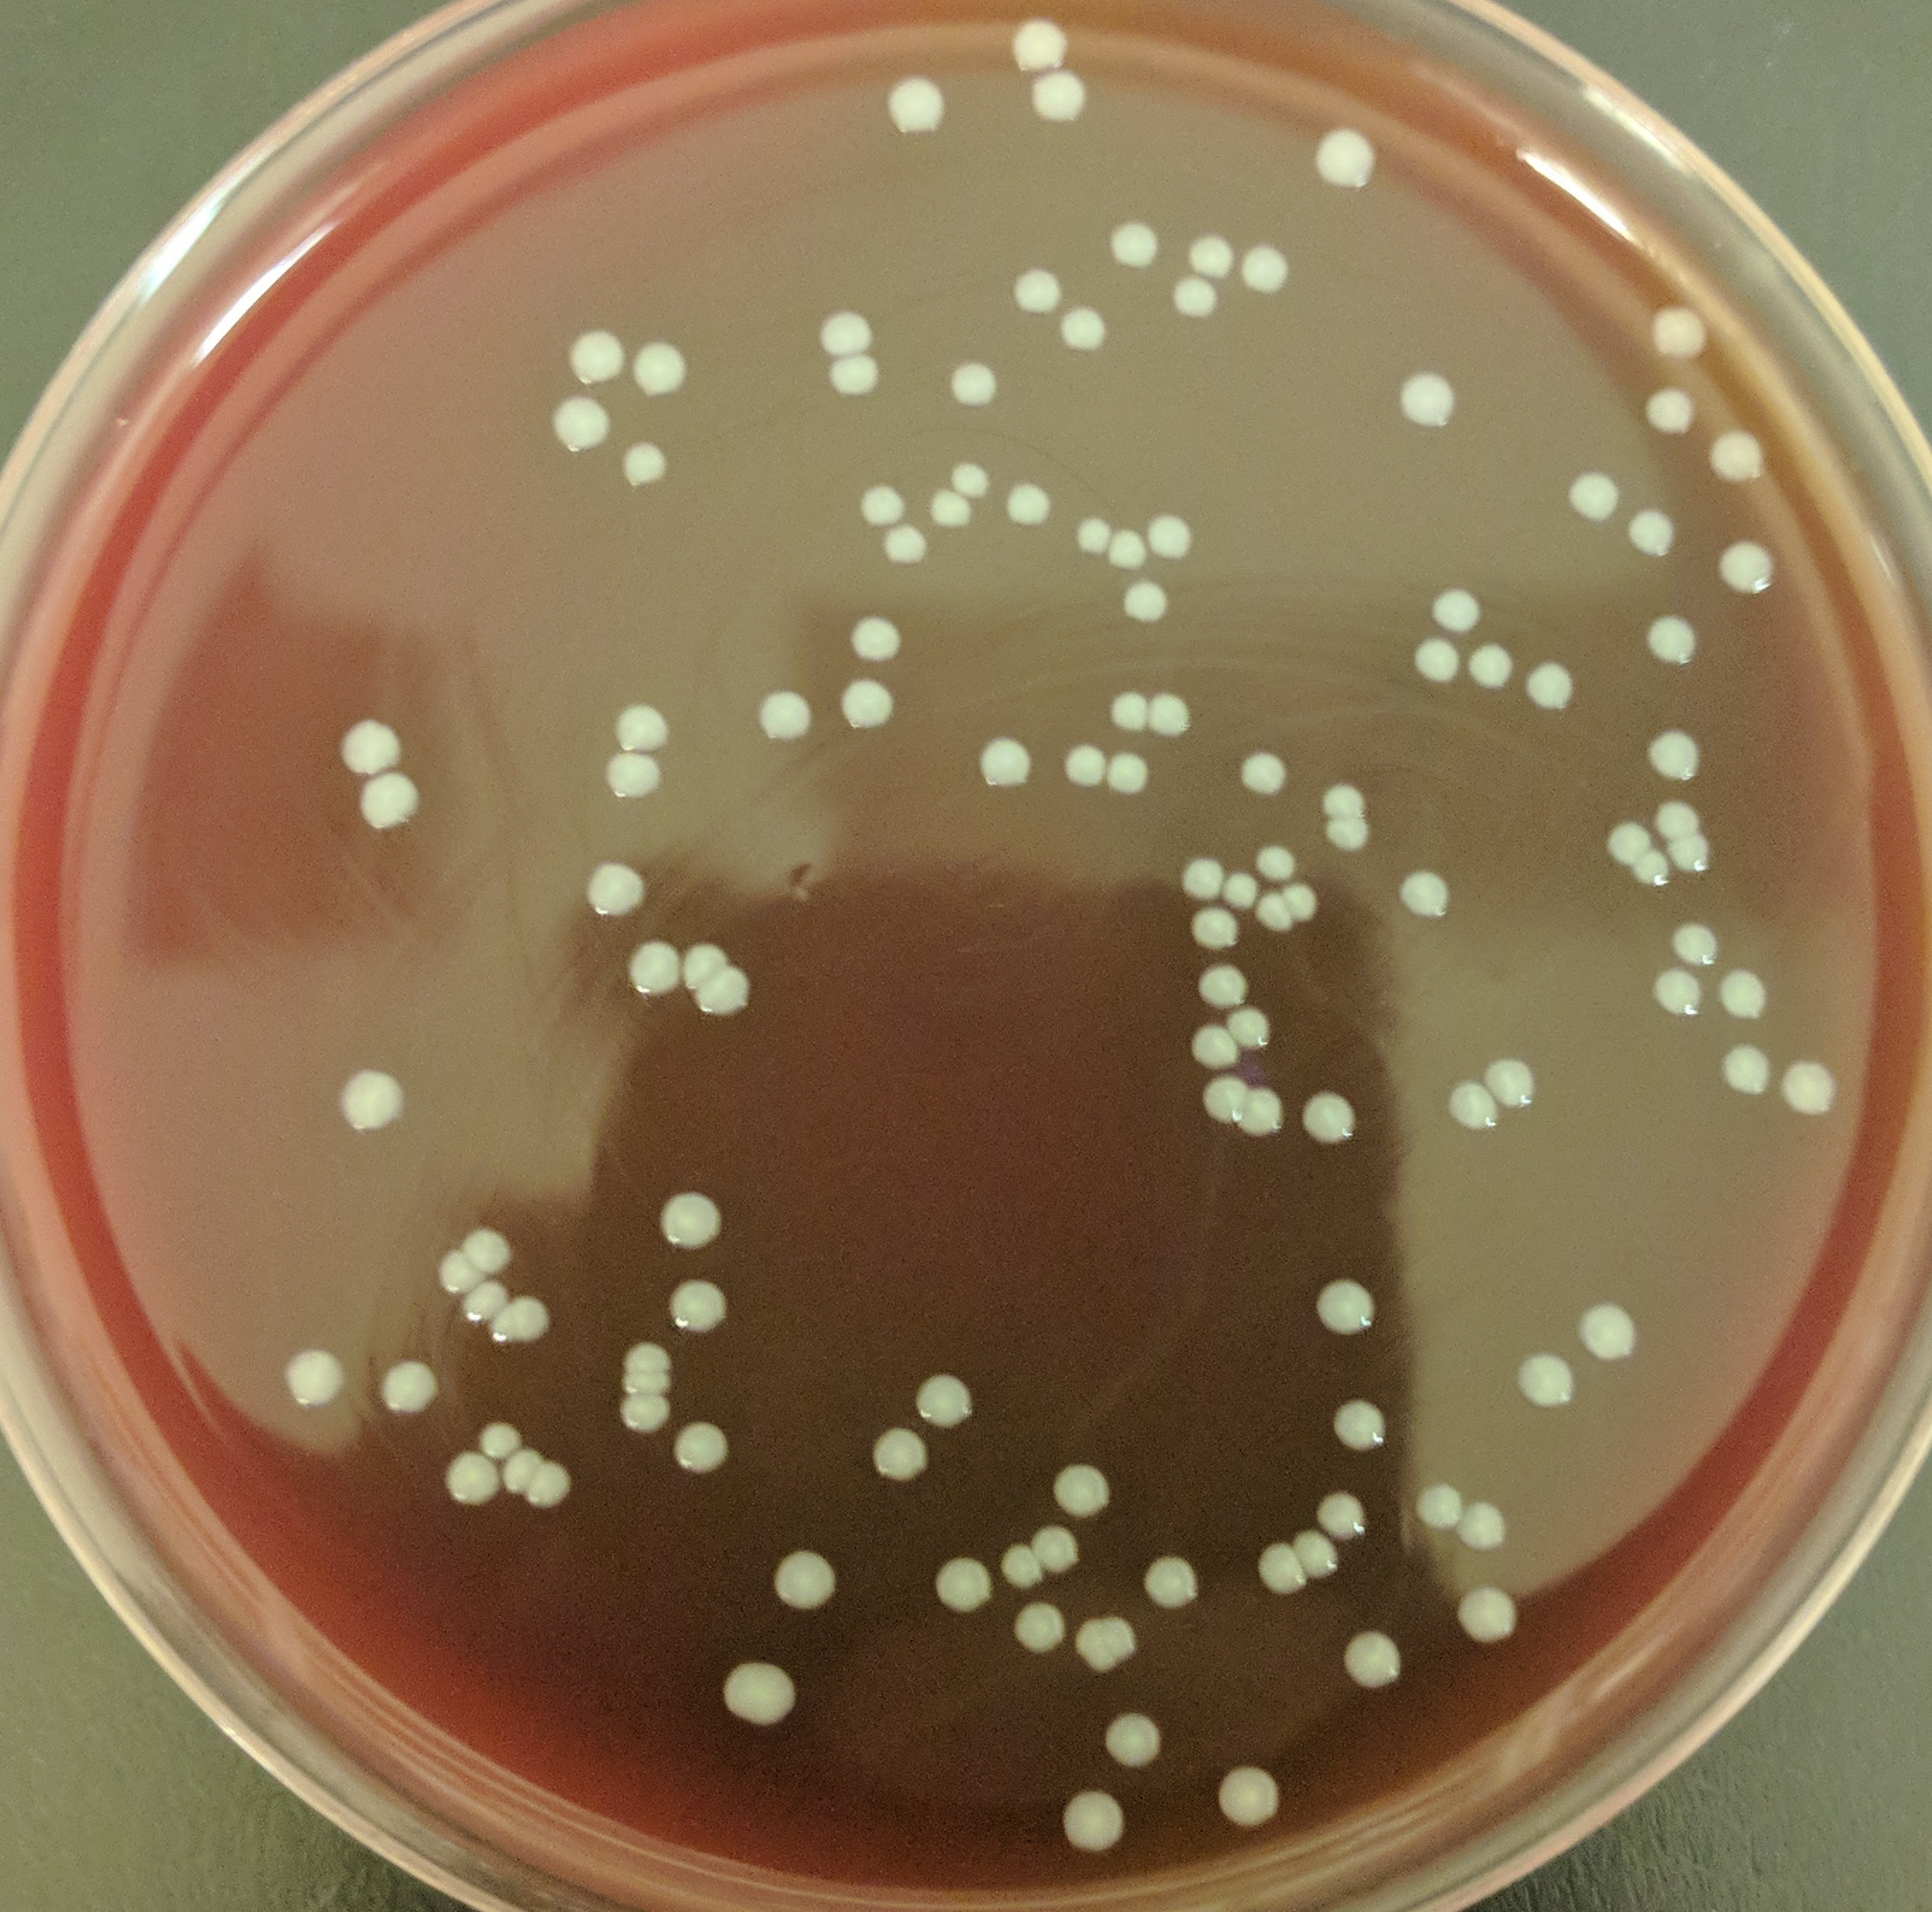sp14: (1704, 506, 1818, 622), (627, 1257, 755, 1346), (1561, 1275, 1657, 1392), (715, 1641, 820, 1747), (1019, 56, 1121, 166), (1438, 1567, 1552, 1665), (1305, 1250, 1401, 1366), (1291, 88, 1394, 193), (1671, 404, 1783, 499), (1032, 1443, 1147, 1534), (627, 303, 729, 406), (1632, 266, 1717, 383), (522, 382, 634, 469), (1205, 1742, 1291, 1856), (324, 688, 429, 781), (1336, 1618, 1431, 1719), (1128, 1537, 1224, 1634), (583, 737, 676, 837), (872, 65, 970, 158), (1040, 1767, 1133, 1865), (1631, 706, 1720, 807), (1631, 583, 1715, 690), (806, 340, 913, 422), (1610, 361, 1713, 445), (1386, 348, 1468, 453), (1240, 219, 1326, 319), (568, 830, 650, 933), (1417, 571, 1513, 658), (827, 671, 914, 763), (1515, 644, 1592, 749), (1054, 1600, 1154, 1681), (370, 1329, 448, 1430), (1760, 1044, 1850, 1133), (760, 1536, 851, 1623), (345, 762, 438, 847), (1701, 1024, 1776, 1126), (1298, 1086, 1393, 1166), (853, 1402, 930, 1501), (1210, 728, 1300, 812), (941, 343, 1032, 425), (795, 278, 886, 359), (1319, 1387, 1410, 1467), (841, 583, 918, 678), (963, 714, 1039, 811), (1608, 492, 1692, 578), (1186, 917, 1258, 1016), (638, 1171, 737, 1241), (280, 1324, 345, 1430), (557, 303, 636, 390), (916, 1544, 1004, 1623), (991, 242, 1072, 326), (1639, 951, 1715, 1040), (748, 664, 816, 762), (1093, 1697, 1167, 1786), (1107, 555, 1188, 636), (1697, 951, 1781, 1028), (1387, 620, 1473, 695), (1555, 445, 1625, 536), (1018, 1504, 1109, 1574), (1047, 292, 1128, 371), (601, 678, 683, 753), (1153, 264, 1237, 336), (671, 1408, 746, 1487), (611, 928, 680, 1012), (1240, 1523, 1301, 1616), (599, 441, 711, 490), (1096, 208, 1172, 280), (1142, 483, 1210, 562), (1510, 1334, 1571, 1422), (1273, 1508, 1338, 1590), (1471, 623, 1533, 709), (998, 459, 1051, 559), (1461, 1478, 1519, 1567), (1400, 1460, 1463, 1541), (878, 520, 942, 597), (1387, 861, 1464, 926), (846, 455, 909, 534), (909, 1364, 984, 1429), (506, 1283, 566, 1364), (340, 1061, 408, 1131), (1181, 1014, 1252, 1080), (1582, 791, 1648, 861), (1482, 1051, 1552, 1117), (611, 1318, 690, 1376), (1182, 1065, 1249, 1133), (1301, 811, 1382, 867), (445, 1436, 496, 1523), (1314, 1481, 1375, 1553), (603, 1387, 676, 1446), (1307, 760, 1377, 819), (531, 1443, 576, 1534), (1160, 833, 1221, 900), (1049, 735, 1107, 805), (462, 1205, 518, 1276), (1174, 207, 1238, 268), (1661, 903, 1725, 965), (1436, 1072, 1494, 1140), (1247, 811, 1300, 882), (1096, 676, 1153, 742), (1179, 903, 1245, 960), (1231, 1000, 1291, 1061), (1005, 1579, 1056, 1651), (914, 469, 962, 545), (995, 1541, 1049, 1606), (1668, 830, 1725, 888), (504, 1443, 550, 1511), (695, 972, 753, 1023), (944, 443, 993, 499), (427, 1240, 475, 1297), (1109, 749, 1153, 811), (1646, 793, 1703, 840), (674, 942, 737, 982), (1142, 688, 1202, 730), (1074, 490, 1107, 564), (476, 1408, 529, 1453), (1631, 842, 1675, 896), (471, 1275, 517, 1325), (1286, 874, 1333, 919), (1245, 1087, 1284, 1140), (1256, 895, 1298, 942), (1109, 522, 1147, 571), (1226, 867, 1258, 909)
